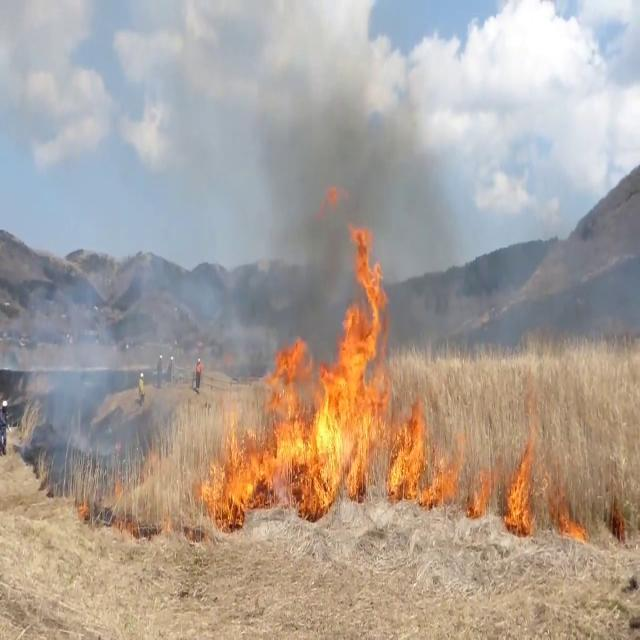Fire: (204, 213, 450, 508), (502, 425, 540, 535)
Smoke: (241, 31, 444, 290), (9, 258, 150, 480)
